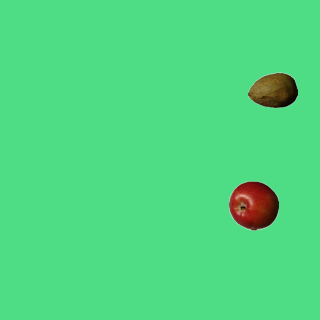Apple Braeburn: (228, 180, 278, 230)
Papaya: (247, 65, 297, 115)
